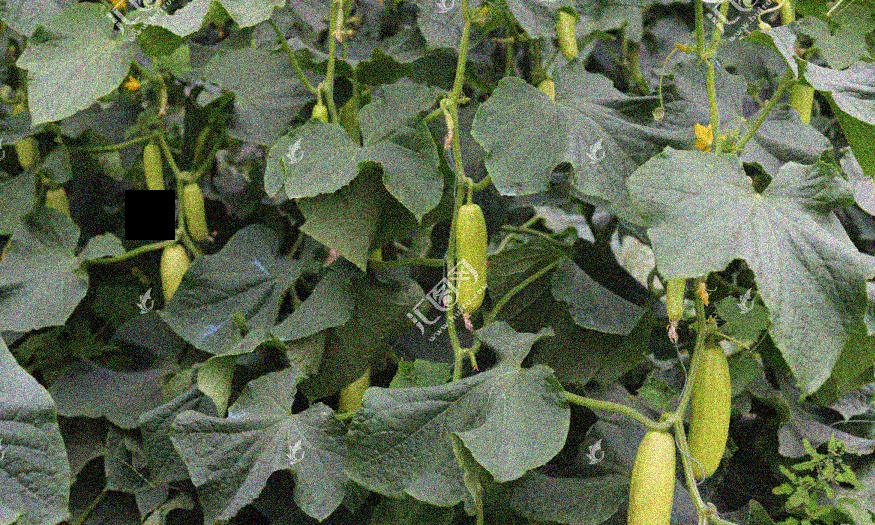cucumber_plant: (644, 115, 860, 390), (186, 378, 562, 521), (26, 1, 184, 130)
